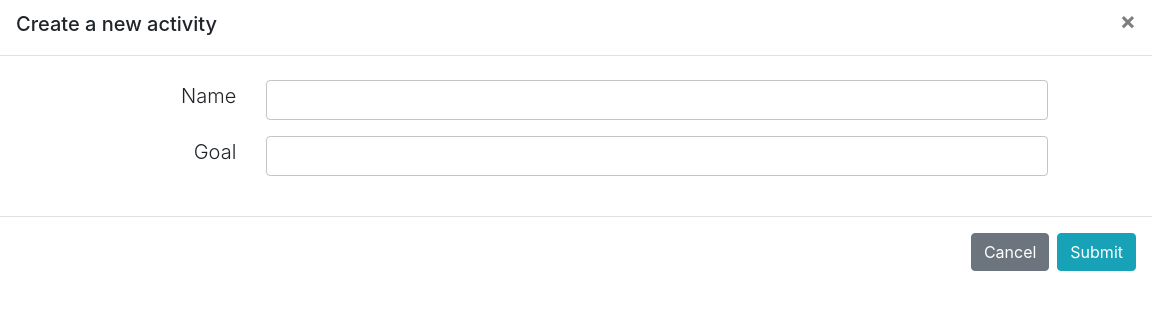
Test: <ActivityForm /> › Should disable submit button on negative goal input
Replace the text in the element with id "inputGoal" with "-10" at (657, 156), box [266,136,1048,176]
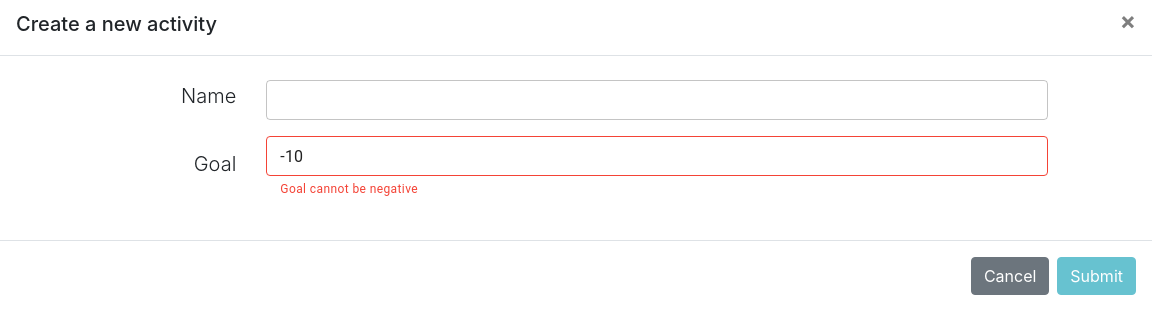
Result: the button with id "activity-form-submit-btn" is disabled at [1057,257,1136,295]
